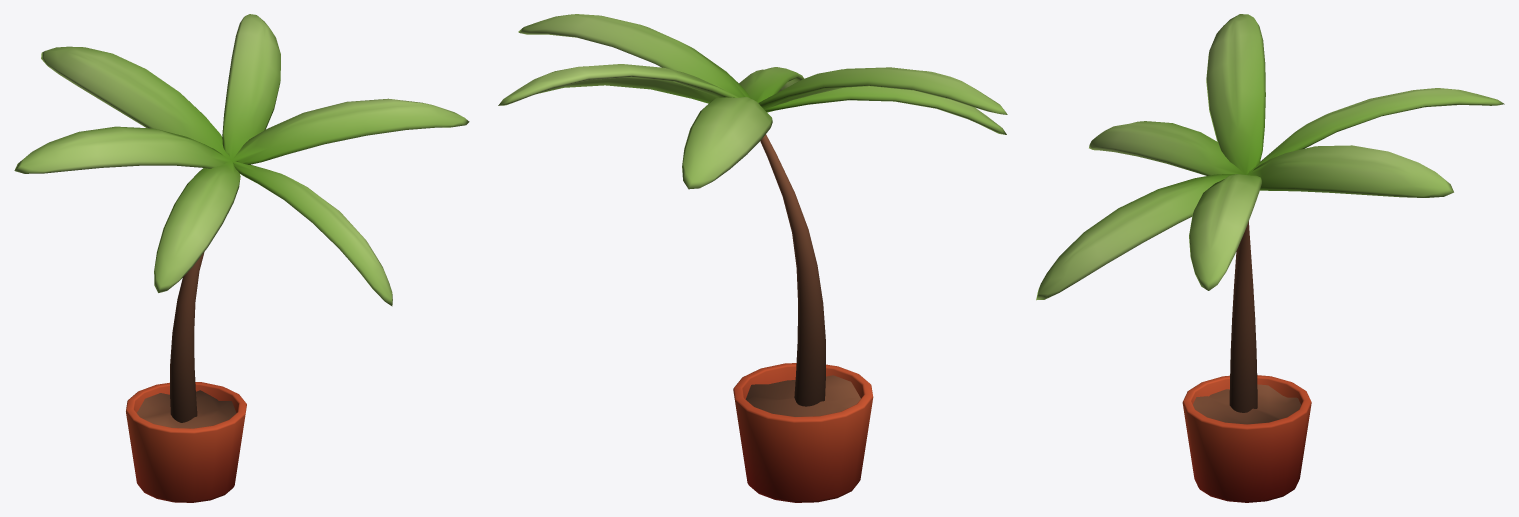
The model's file is SM_tree.fbx.
The picture shows the model from 3 angles, left to right: view 1: azimuth 30°, elevation 25°; view 2: azimuth 150°, elevation 25°; view 3: azimuth 270°, elevation 25°; orthographic projection. The views are drawn at different scales.
Parts seen in each view (by area): view 1: Cylinder.004; view 2: Cylinder.004; view 3: Cylinder.004.
Part boxes in pixels (box(x1,y1,x2,y2)): Cylinder.004: box(14, 14, 469, 502); Cylinder.004: box(498, 14, 1007, 502); Cylinder.004: box(1036, 14, 1504, 502).
Bounding box in the file's own units: 434 × 353 × 379.
